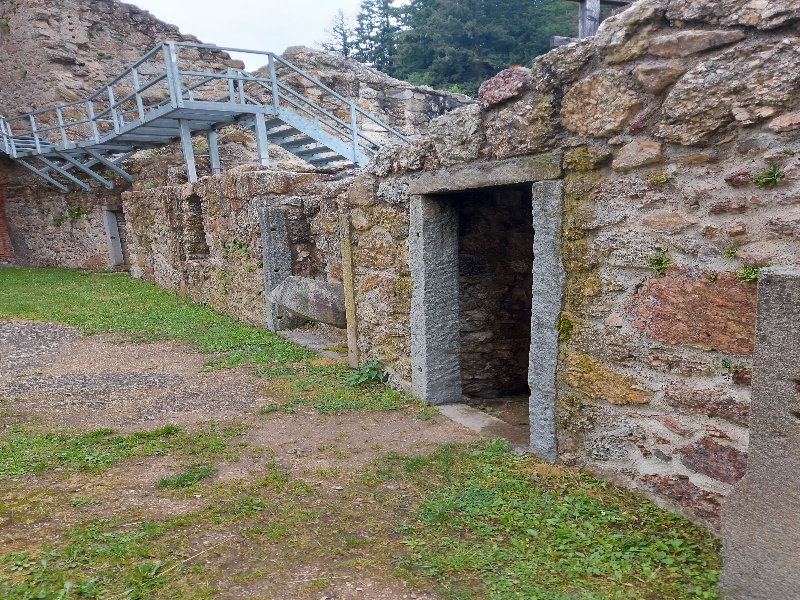door1: (93, 201, 145, 272)
door2: (394, 162, 588, 476)
